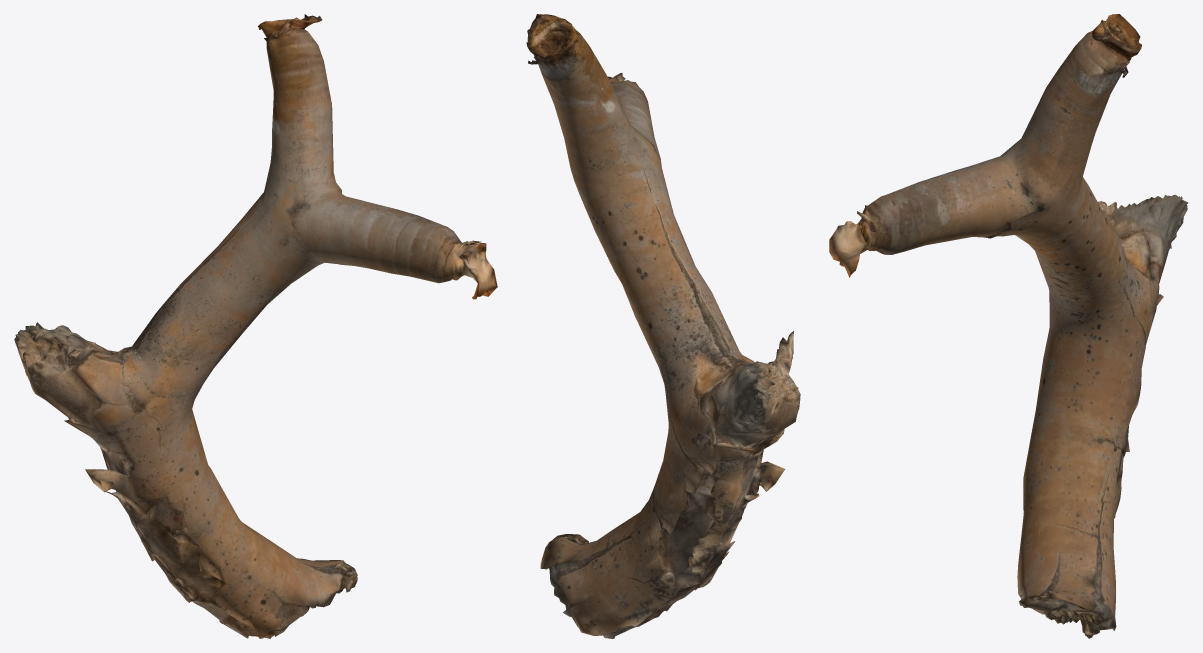
File: ph_dead_quiver_branch_01.glb
The picture shows the model from 3 angles, left to right: view 1: azimuth 30°, elevation 25°; view 2: azimuth 150°, elevation 25°; view 3: azimuth 270°, elevation 25°; orthographic projection. The views are drawn at different scales.
Visible parts, largest first — view 1: dead_quiver_branch_01; view 2: dead_quiver_branch_01; view 3: dead_quiver_branch_01.
Boxes of the visible parts, x1,y1,x2,y2 form: dead_quiver_branch_01: [14, 14, 497, 638]; dead_quiver_branch_01: [526, 14, 800, 638]; dead_quiver_branch_01: [829, 14, 1188, 638].
Bounding box in the file's own units: 0.2549 × 0.4384 × 0.2268.
1 material, 1 textured.
